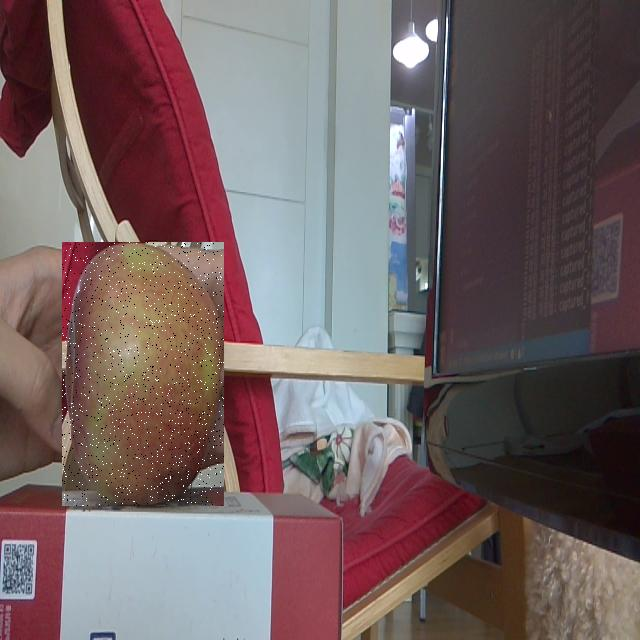apple: (62, 242, 224, 506)
